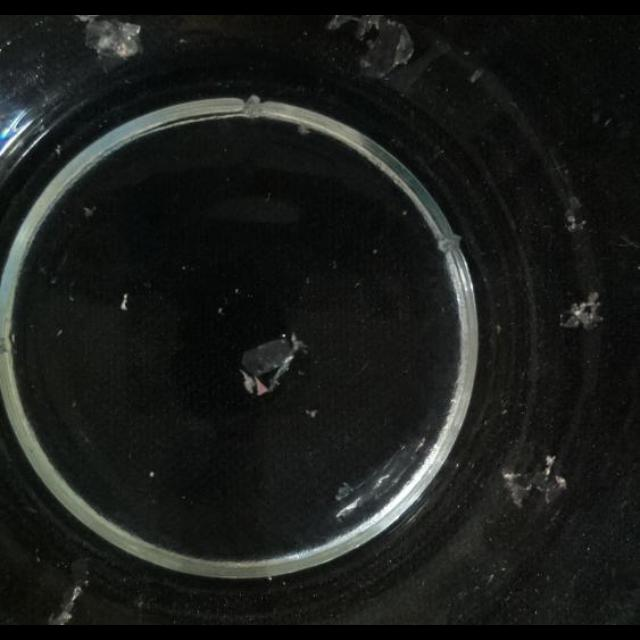Fibre: (327, 16, 411, 78), (502, 454, 564, 508), (83, 16, 143, 64), (560, 292, 602, 330), (562, 197, 586, 231), (434, 235, 464, 259), (242, 94, 266, 118), (334, 482, 354, 503), (470, 68, 484, 84), (82, 206, 96, 218), (297, 122, 311, 134), (0, 340, 10, 354), (306, 409, 318, 419), (591, 111, 601, 123), (54, 144, 62, 156)
Fragment: (239, 333, 305, 393)
microbeads: (120, 294, 128, 310), (148, 470, 154, 478), (217, 307, 223, 315)
